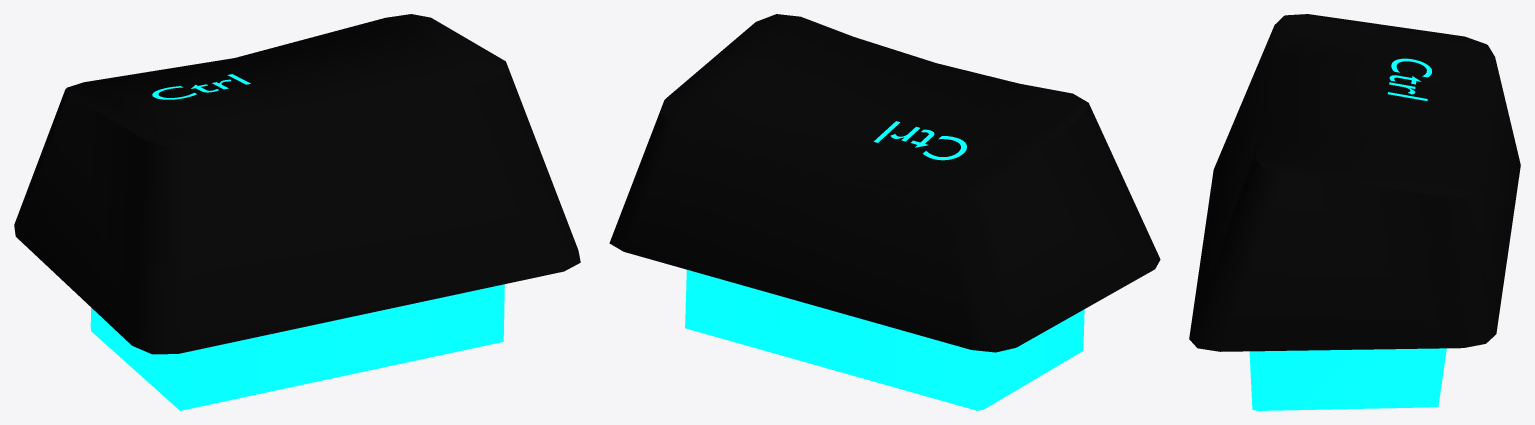
The model's file is rightctrl-CHurYWgw.glb.
The picture shows the model from 3 angles, left to right: view 1: azimuth 30°, elevation 25°; view 2: azimuth 150°, elevation 25°; view 3: azimuth 270°, elevation 25°; orthographic projection. The views are drawn at different scales.
Visible parts, largest first — view 1: StudyShelf_492; view 2: StudyShelf_492; view 3: StudyShelf_492.
Part boxes in pixels (bbox=[...]): StudyShelf_492: bbox=[14, 14, 580, 410]; StudyShelf_492: bbox=[609, 14, 1160, 410]; StudyShelf_492: bbox=[1189, 14, 1520, 410].
Bounding box in the file's own units: 6.49 × 3.71 × 4.48.
